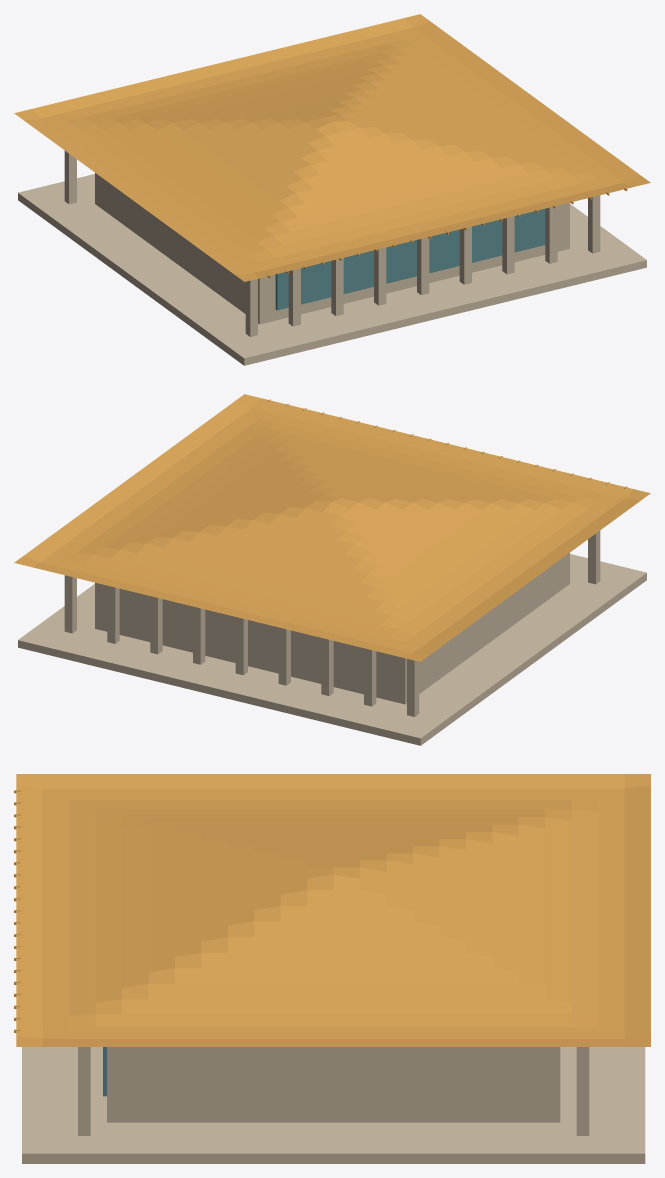
Rendered from sun-yat-sen.glb.
3 views of the same model, one above another, from view 1: azimuth 30°, elevation 25°; view 2: azimuth 150°, elevation 25°; view 3: azimuth 270°, elevation 25° (orthographic). The views are drawn at different scales.
Parts seen in each view (by area): view 1: Swept golden roof, Foundation, Main hall, Glazed front, Portico column.002, Portico column.008, Portico column.012, Portico column, Portico column.006, Portico column.016, Portico column.014, Portico column.004 (+2 smaller); view 2: Swept golden roof, Foundation, Main hall, Portico column.007, Portico column.009, Portico column.017, Portico column.003, Portico column.005, Portico column.015, Portico column.011, Portico column.013, Portico column.001 (+1 smaller); view 3: Swept golden roof, Foundation, Main hall, Portico column.017, Portico column.016.
Part boxes in pixels (box(x1,y1,x2,y2)): Swept golden roof: box(14, 14, 650, 281); Foundation: box(18, 174, 646, 365); Main hall: box(95, 173, 569, 324); Glazed front: box(275, 209, 545, 310); Portico column.002: box(288, 268, 300, 326); Portico column.008: box(417, 237, 429, 295); Portico column.012: box(502, 216, 514, 274); Portico column: box(245, 279, 257, 336); Portico column.006: box(374, 247, 386, 305); Portico column.016: box(588, 195, 600, 253); Portico column.014: box(545, 205, 557, 263); Portico column.004: box(331, 258, 343, 315); Swept golden roof: box(14, 394, 650, 661); Foundation: box(18, 554, 646, 745); Main hall: box(95, 553, 569, 704); Portico column.007: box(278, 627, 290, 685); Portico column.009: box(235, 617, 247, 675); Portico column.017: box(64, 575, 76, 633); Portico column.003: box(364, 648, 376, 706); Portico column.005: box(321, 638, 333, 695); Portico column.015: box(107, 585, 119, 643); Portico column.011: box(193, 606, 205, 664); Portico column.013: box(150, 596, 162, 654); Portico column.001: box(407, 659, 419, 716); Swept golden roof: box(16, 774, 650, 1046); Foundation: box(22, 1047, 645, 1163); Main hall: box(107, 1047, 560, 1122); Portico column.017: box(576, 1047, 589, 1135); Portico column.016: box(78, 1047, 90, 1135).
Size of the model in its own units: 114 by 30 by 112.
